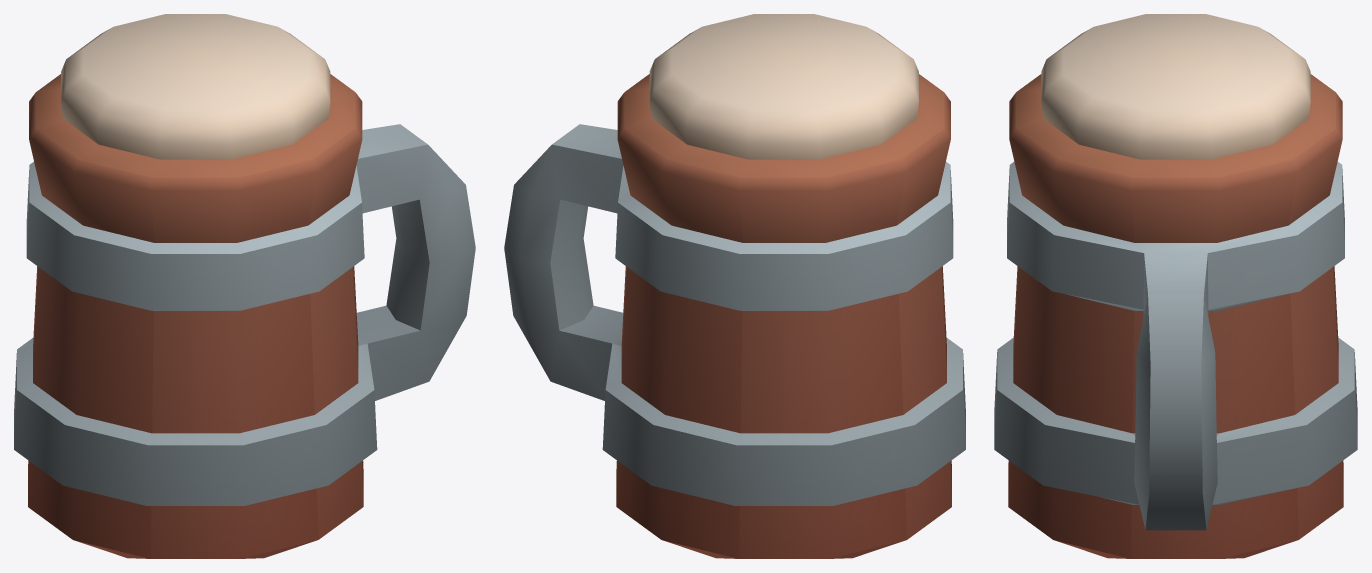
File: mug_full.glb
3 views of the same model, side by side, from view 1: azimuth 30°, elevation 25°; view 2: azimuth 150°, elevation 25°; view 3: azimuth 270°, elevation 25° (orthographic).
Parts seen in each view (by area): view 1: mug_full; view 2: mug_full; view 3: mug_full.
Part boxes in pixels (x1,y1,x2,y2): mug_full: [14, 14, 475, 558]; mug_full: [504, 14, 965, 558]; mug_full: [994, 14, 1357, 558].
Size of the model in its own units: 0.5342 by 0.5484 by 0.396.
1 material, 1 textured.
